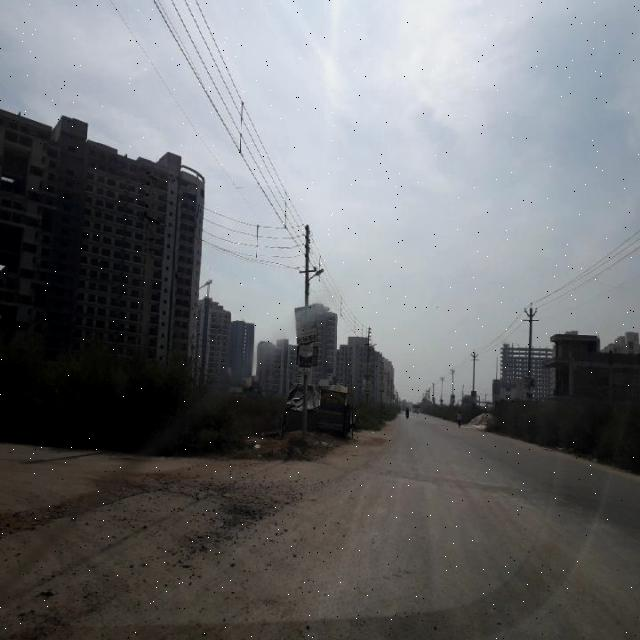D40: (0, 463, 197, 530)
